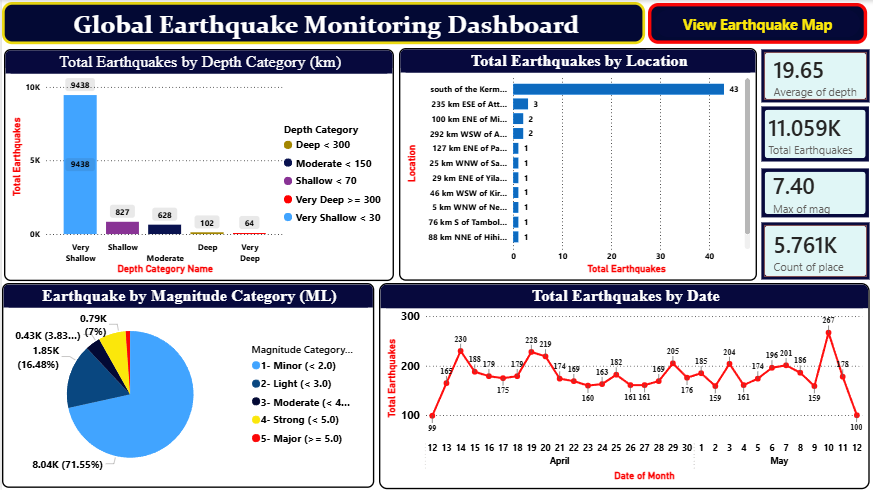

What the dashboard file says about the page in this screenshot:
{"tool":"powerbi","page":{"name":"Dashboard","canvas":[1280,720],"ordinal":1},"visuals":[{"type":"textbox","title":"Global Earthquake Monitoring Dashboard","box":[0,2.9,944.8,61.7],"z":0},{"type":"lineChart","title":"Total Earthquakes by Date","fields":{"Category":["all_month.Date.Variation.Date Hierarchy.Month","all_month.Date.Variation.Date Hierarchy.Day"],"Y":["Count(all_month.mag)"]},"box":[554,415.8,721.5,302.7],"z":1000},{"type":"pieChart","title":"Earthquake by Magnitude Category (ML)","fields":{"Category":["all_month.MagnitudeBand"],"Y":["CountNonNull(all_month.mag)"]},"box":[0,415.8,546.6,301.2],"z":2000},{"type":"cardVisual","fields":{"Data":["all_month.Total Earthquakes"]},"box":[1110.9,151.3,169,91.1],"z":3000},{"type":"cardVisual","fields":{"Data":["Max(all_month.mag)"]},"box":[1110.9,242.4,169,82.3],"z":4000},{"type":"cardVisual","fields":{"Data":["Avg(all_month.depth)"]},"box":[1113.8,70.5,163.1,82.3],"z":5000},{"type":"clusteredBarChart","title":"Total Earthquakes by Location","fields":{"Category":["all_month.place"],"Y":["all_month.Total Earthquakes"]},"box":[583.3,70.5,526,342.4],"z":6000},{"type":"actionButton","title":"Earthquake Location","box":[949.2,4.4,321.8,60.2],"z":7000},{"type":"cardVisual","fields":{"Data":["Count(all_month.place)"]},"box":[1113.8,324.7,163.1,88.2],"z":8000},{"type":"columnChart","title":"Total Earthquakes by Depth Category (km)","fields":{"Category":["all_month.Depth Category Name"],"Y":["all_month.Total Earthquakes"],"Series":["all_month.Depth Category"]},"box":[2.9,72,573.1,340.9],"z":9000}]}

Visuals, with their boxes in screenshot pixels (x1, y1, x2, y2), scaled from the page's 1280x720 canvas onto the 873x490 screenshot:
"Global Earthquake Monitoring Dashboard" textbox: region(0, 2, 644, 44)
"Total Earthquakes by Date" lineChart: region(378, 283, 870, 489)
"Earthquake by Magnitude Category (ML)" pieChart: region(0, 283, 373, 488)
cardVisual - all_month.Total Earthquakes: region(758, 103, 872, 165)
cardVisual - Max(all_month.mag): region(758, 165, 872, 221)
cardVisual - Avg(all_month.depth): region(760, 48, 871, 104)
"Total Earthquakes by Location" clusteredBarChart: region(398, 48, 757, 281)
"Earthquake Location" actionButton: region(647, 3, 867, 44)
cardVisual - Count(all_month.place): region(760, 221, 871, 281)
"Total Earthquakes by Depth Category (km)" columnChart: region(2, 49, 393, 281)
